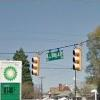Traffic light: (66, 39, 86, 75)
